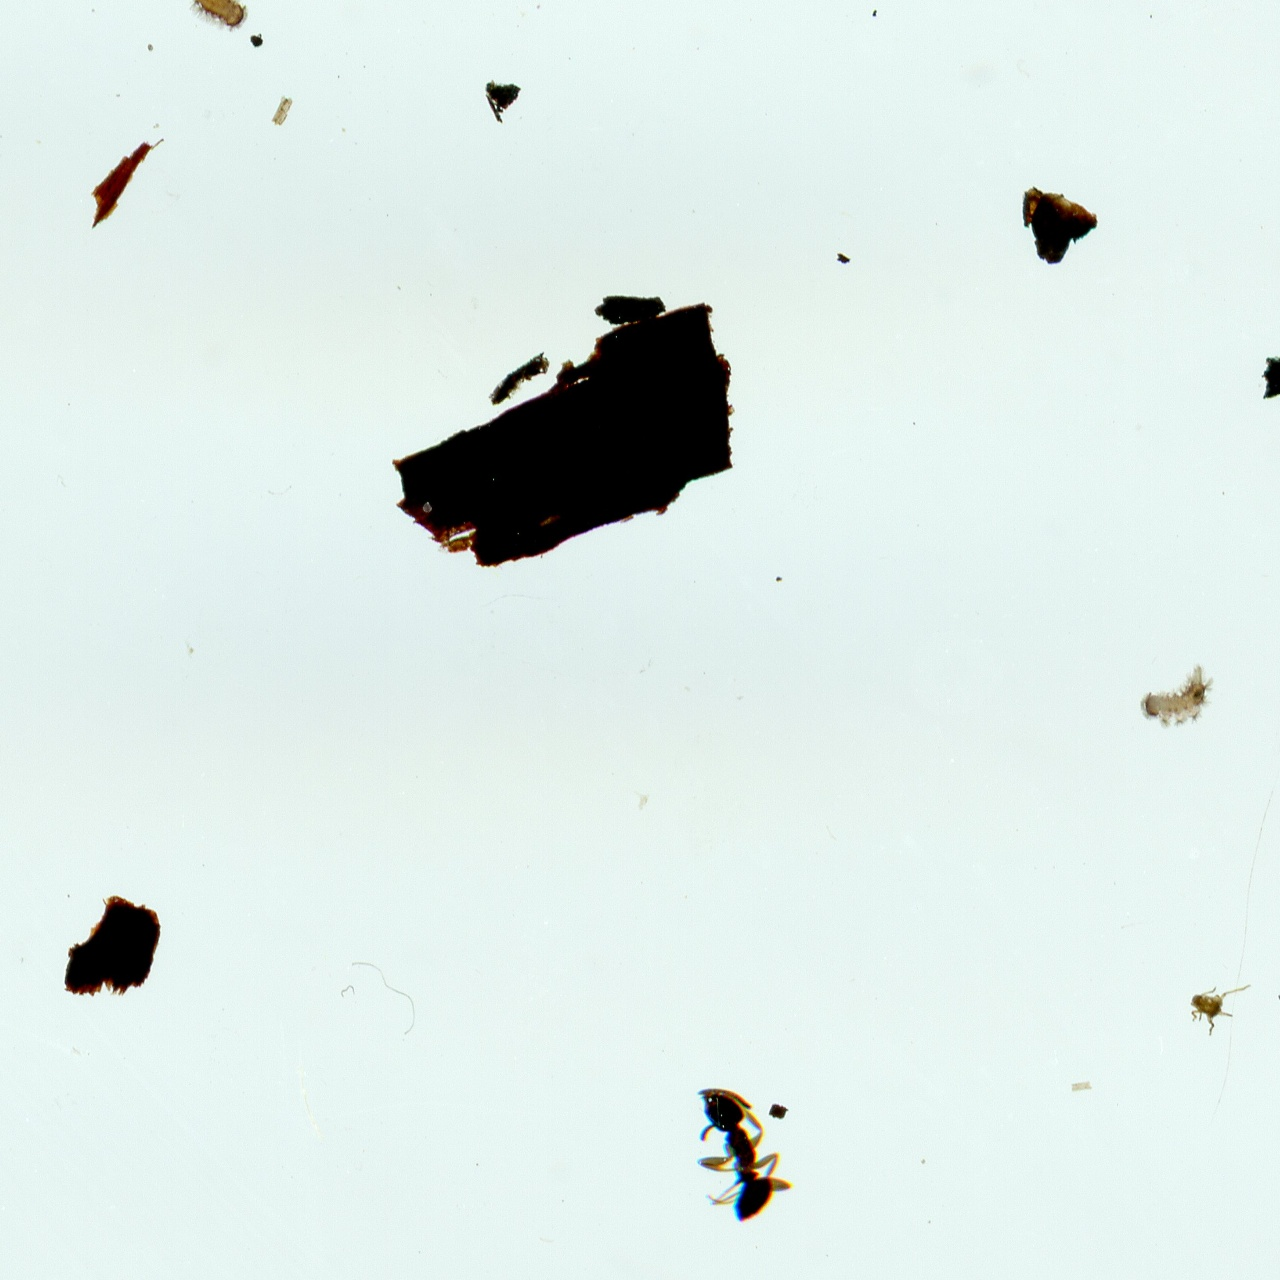arthropod: (692, 1084, 799, 1231), (1136, 658, 1221, 730), (166, 0, 263, 44), (1186, 982, 1255, 1040)
